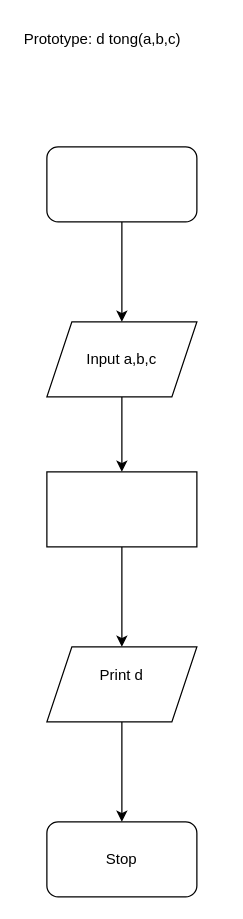
This 243x919 diagram has some shape labels left out. The shapes that lost their labels are listed below. From the top down, each one's box as (x1, y1, x2, y2) in pixels, then its label:
(46, 146, 197, 222): Start
(46, 471, 197, 547): d <- a+b+c
